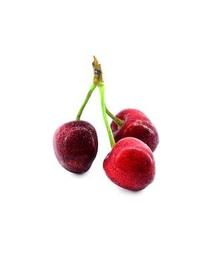cherry: (103, 138, 156, 192), (53, 120, 98, 175), (109, 109, 159, 155)
